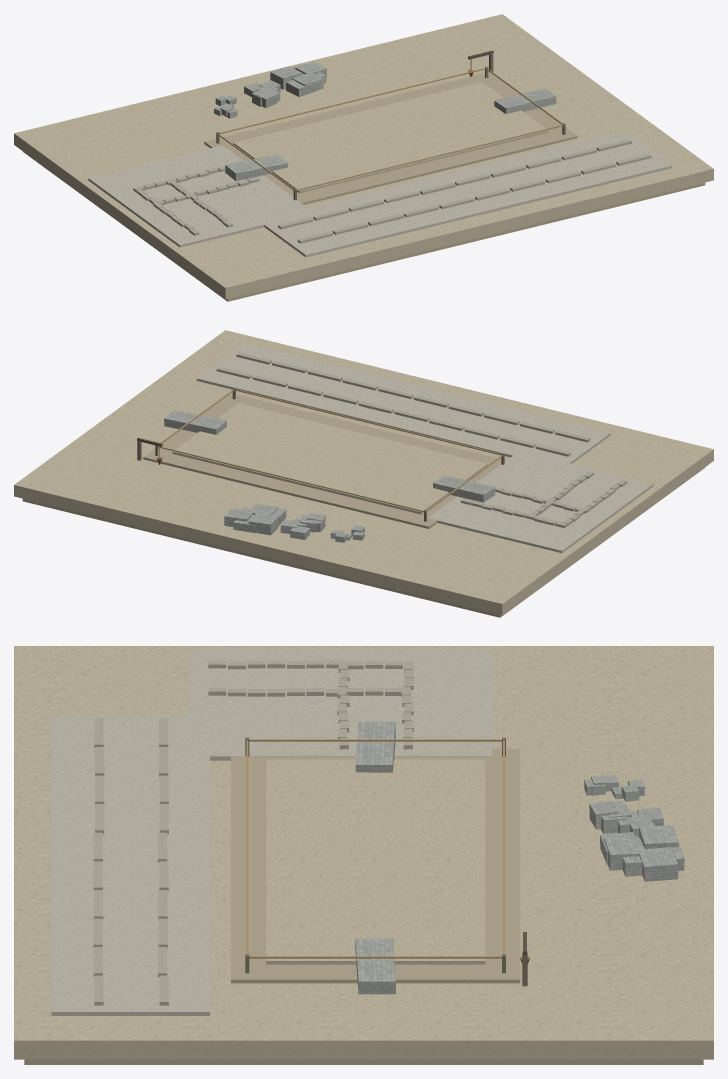
Rendered from lin-1-site.glb.
The picture shows the model from 3 angles, top to bottom: view 1: azimuth 30°, elevation 25°; view 2: azimuth 150°, elevation 25°; view 3: azimuth 270°, elevation 25°; orthographic projection. The views are drawn at different scales.
Bounding box in the file's own units: 40 × 3.02 × 30.
Materials: 12 (9 with a texture image).
